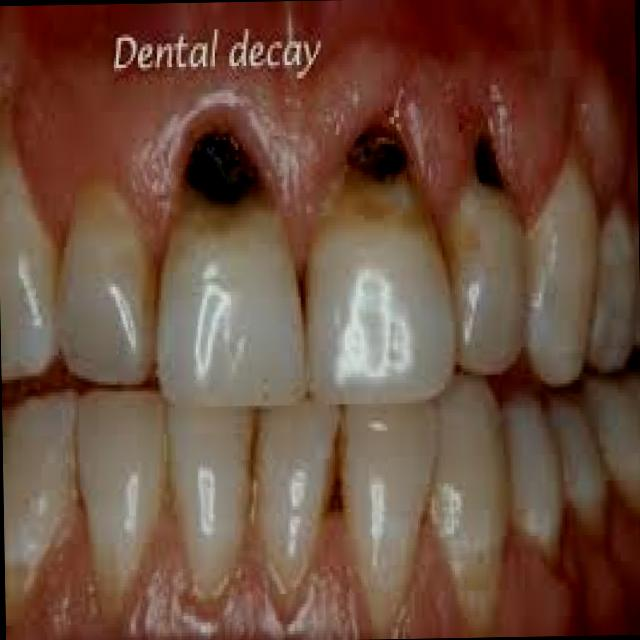caries: (176, 112, 272, 220), (338, 109, 422, 199), (461, 119, 513, 201)
